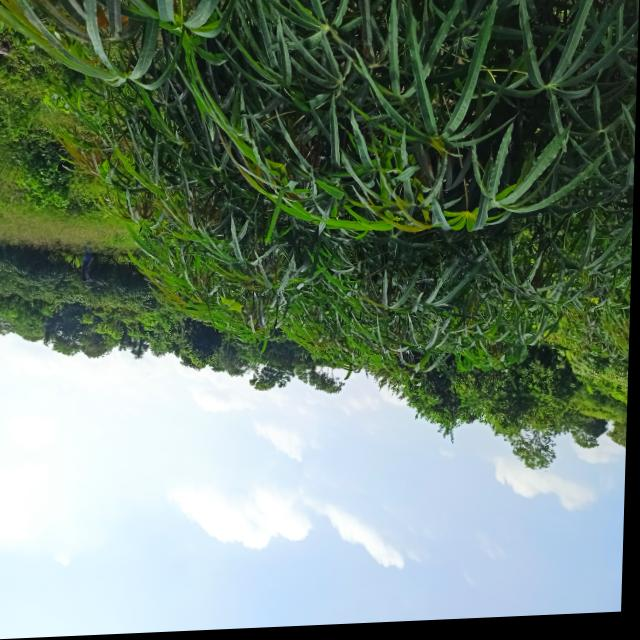Maleza: (0, 81, 51, 254)
Mosca: (526, 122, 546, 138), (317, 150, 331, 164), (348, 30, 364, 40), (374, 4, 387, 12)
